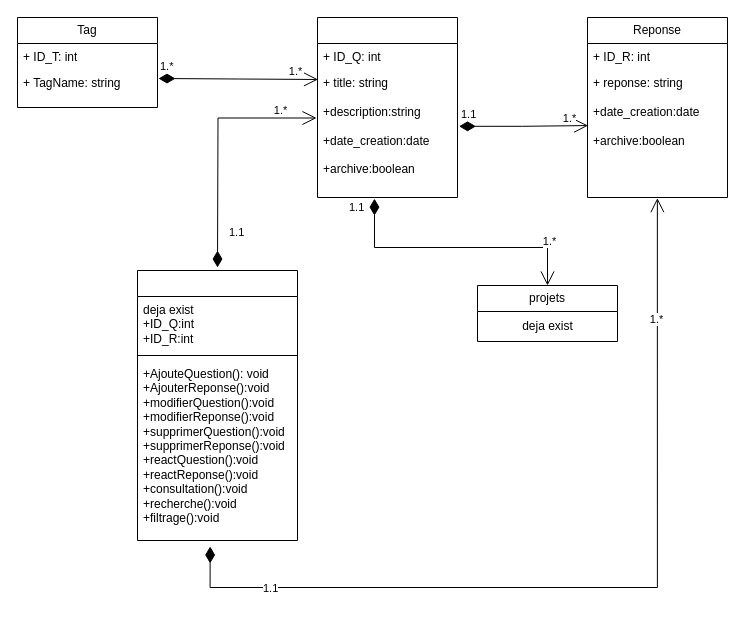
The diagram is 745 pixels wide and 622 high, and some of its shapes have lost their labels. Here are the shapes that lost their labels. From the top down, the box of each, then its label:
(316, 16, 458, 198): Question
(136, 270, 298, 540): User
